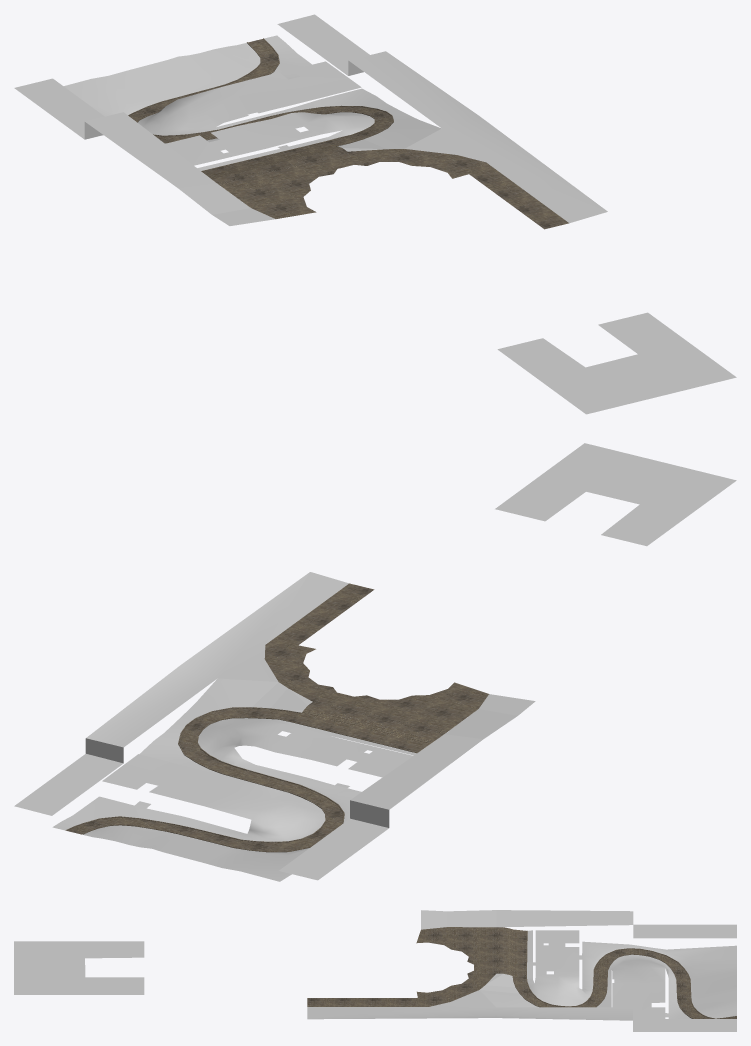
Rendered from Church_Ground.fbx.
3 views of the same model, one above another, from view 1: azimuth 30°, elevation 25°; view 2: azimuth 150°, elevation 25°; view 3: azimuth 270°, elevation 25° (orthographic). The views are drawn at different scales.
Visible parts, largest first — view 1: GraveYard, GraveYard_Road, Ground_Front_of_Church; view 2: GraveYard, GraveYard_Road, Ground_Front_of_Church; view 3: GraveYard, GraveYard_Road, Ground_Front_of_Church.
Boxes of the visible parts, x1,y1,x2,y2 form: GraveYard: (14, 14, 607, 225); GraveYard_Road: (128, 38, 568, 229); Ground_Front_of_Church: (497, 312, 736, 414); GraveYard: (14, 572, 535, 881); GraveYard_Road: (65, 583, 488, 852); Ground_Front_of_Church: (495, 443, 736, 546); GraveYard: (307, 910, 736, 1031); GraveYard_Road: (307, 927, 736, 1018); Ground_Front_of_Church: (14, 941, 144, 994).
Size of the model in its own units: 7087 by 875 by 20134.
